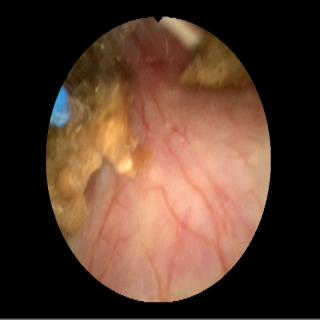fiber: (51, 88, 69, 125)
stone: (47, 25, 148, 234), (182, 41, 251, 87)
tissue: (73, 26, 267, 299)
